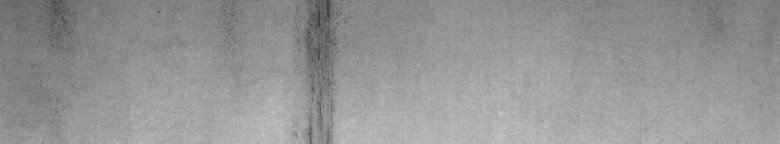ka: (297, 4, 342, 136)
